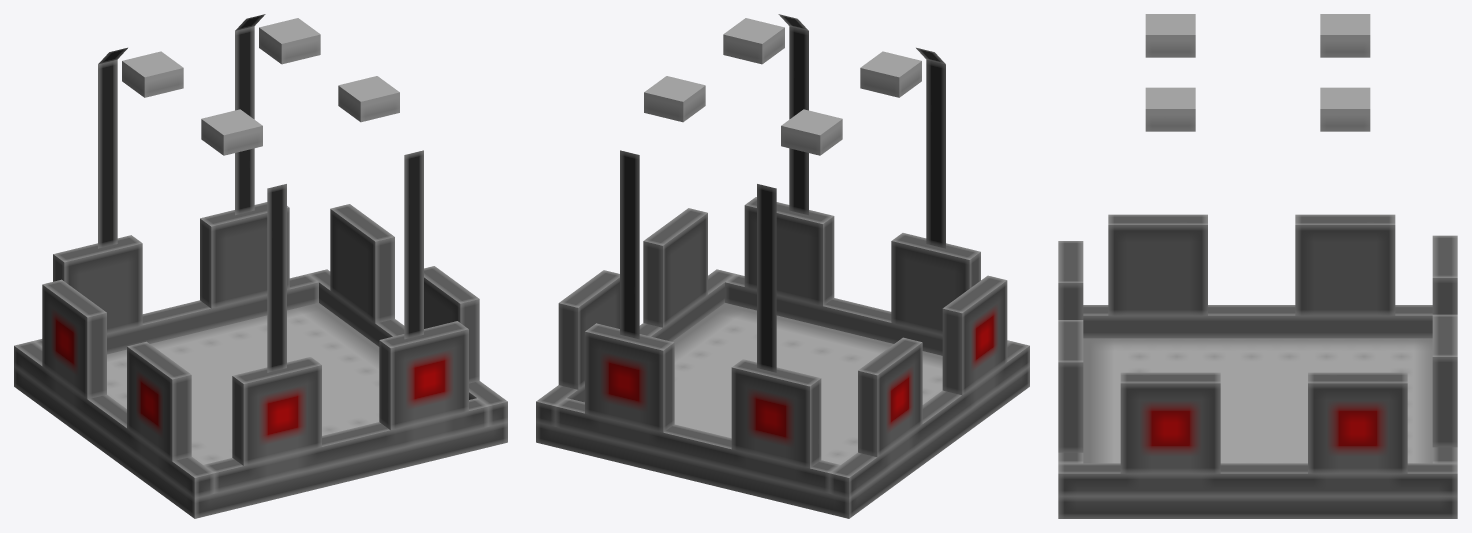
Rendered from battery_socket.obj.
3 renders of one model, left to right at view 1: azimuth 30°, elevation 25°; view 2: azimuth 150°, elevation 25°; view 3: azimuth 270°, elevation 25°, orthographic. The views are drawn at different scales.
Parts seen in each view (by area): view 1: mesh; view 2: mesh; view 3: mesh.
Boxes of the visible parts, <box> form: mesh: <box>14,14,507,518</box>; mesh: <box>536,14,1029,518</box>; mesh: <box>1058,14,1457,518</box>.
Bounding box in the file's own units: 2 × 2.06 × 2.
